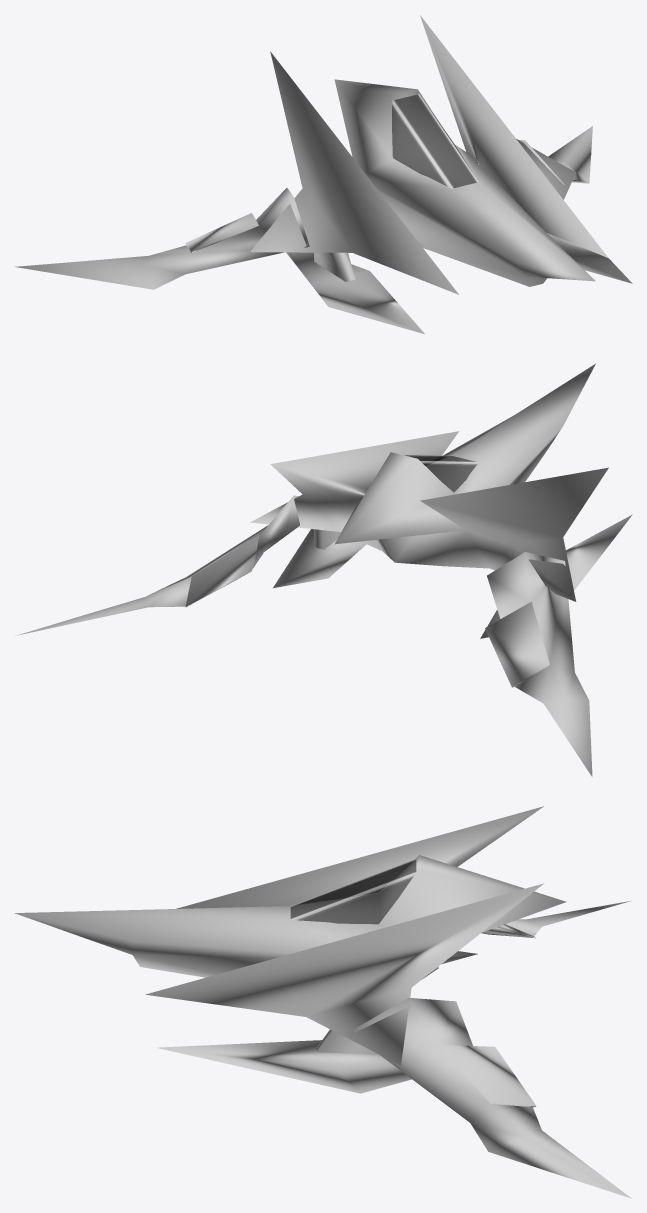
File: arwingNew69.obj
3 views of the same model, one above another, from view 1: azimuth 30°, elevation 25°; view 2: azimuth 150°, elevation 25°; view 3: azimuth 270°, elevation 25° (orthographic). The views are drawn at different scales.
Visible parts, largest first — view 1: Arwing.002; view 2: Arwing.002; view 3: Arwing.002.
Boxes of the visible parts, left/top/right/bottom form: Arwing.002: left=15, top=15, right=632, bottom=334; Arwing.002: left=15, top=363, right=632, bottom=776; Arwing.002: left=14, top=806, right=631, bottom=1198.
Bounding box in the file's own units: 6.7 × 2.15 × 5.87.
